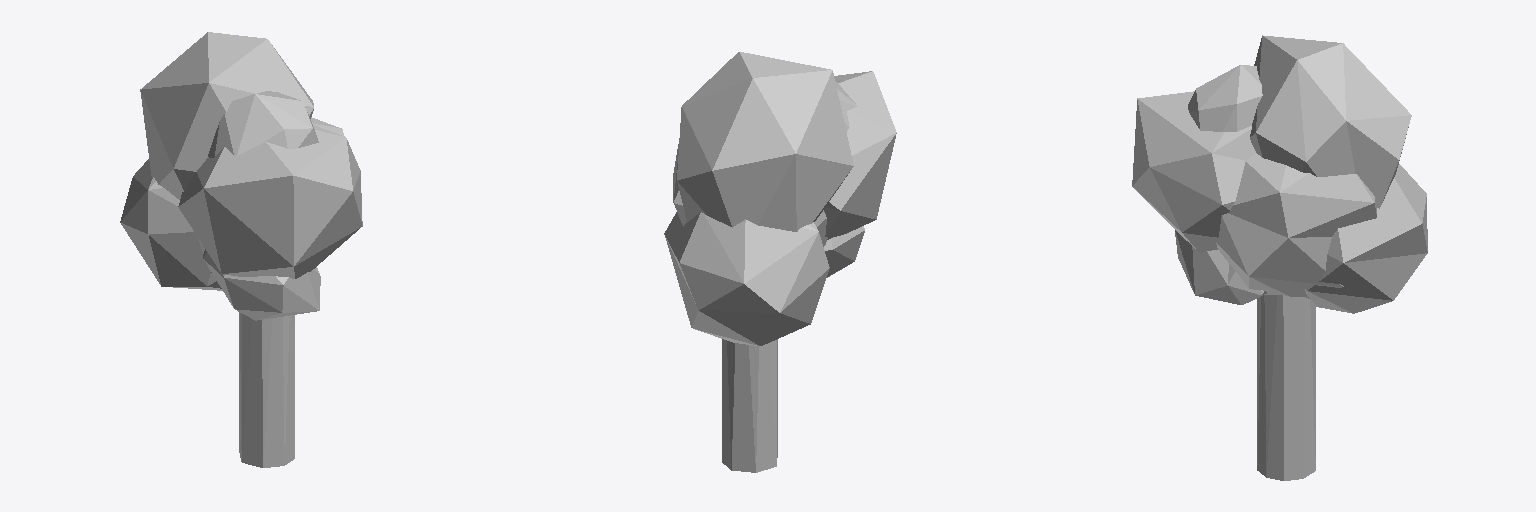
File: eik.obj
3 views of the same model, side by side, from view 1: azimuth 30°, elevation 25°; view 2: azimuth 150°, elevation 25°; view 3: azimuth 270°, elevation 25° (orthographic).
Visible parts, largest first — view 1: Icosphere_Icosphere.001, Icosphere.002_Icosphere.003, Cylinder, Icosphere.001_Icosphere.002, Icosphere.004_Icosphere.000, Icosphere.005; view 2: Icosphere.002_Icosphere.003, Icosphere.001_Icosphere.002, Cylinder, Icosphere_Icosphere.001, Icosphere.005, Icosphere.003_Icosphere.004; view 3: Icosphere.002_Icosphere.003, Icosphere.003_Icosphere.004, Icosphere_Icosphere.001, Cylinder, Icosphere.001_Icosphere.002, Icosphere.004_Icosphere.000, Icosphere.005.
Boxes of the visible parts, box(x1,y1,x2,y2) form: Icosphere_Icosphere.001: box(178, 125, 362, 278); Icosphere.002_Icosphere.003: box(140, 32, 313, 199); Cylinder: box(239, 312, 294, 467); Icosphere.001_Icosphere.002: box(120, 159, 222, 290); Icosphere.004_Icosphere.000: box(208, 91, 318, 157); Icosphere.005: box(203, 250, 320, 320); Icosphere.002_Icosphere.003: box(677, 52, 853, 231); Icosphere.001_Icosphere.002: box(664, 212, 829, 346); Cylinder: box(722, 339, 777, 472); Icosphere_Icosphere.001: box(824, 71, 896, 239); Icosphere.005: box(824, 226, 864, 277); Icosphere.003_Icosphere.004: box(673, 138, 827, 246); Icosphere.002_Icosphere.003: box(1250, 35, 1411, 208); Icosphere.003_Icosphere.004: box(1216, 153, 1376, 298); Icosphere_Icosphere.001: box(1132, 91, 1255, 252); Cylinder: box(1257, 295, 1315, 480); Icosphere.001_Icosphere.002: box(1305, 164, 1427, 313); Icosphere.004_Icosphere.000: box(1188, 65, 1262, 131); Icosphere.005: box(1175, 230, 1266, 304).
Bounding box in the file's own units: 2.47 × 5.36 × 3.49.